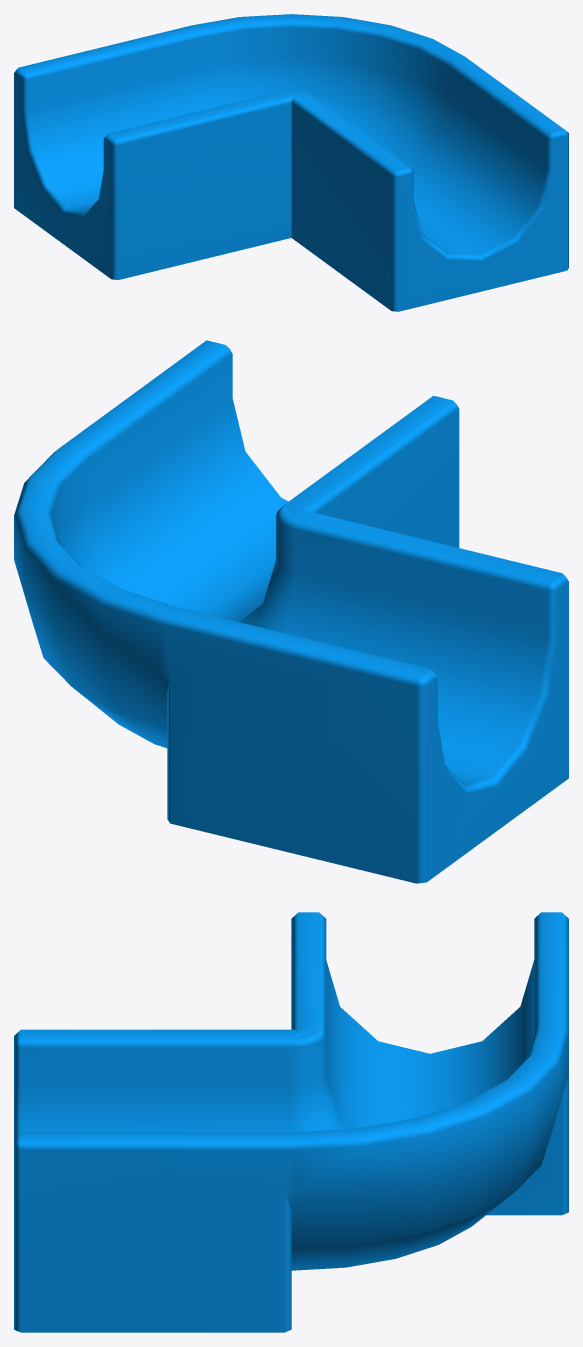
File: Track Curve 2x2.fbx
3 views of the same model, one above another, from view 1: azimuth 30°, elevation 25°; view 2: azimuth 150°, elevation 25°; view 3: azimuth 270°, elevation 25° (orthographic). The views are drawn at different scales.
Visible parts, largest first — view 1: Track Curve 2x2; view 2: Track Curve 2x2; view 3: Track Curve 2x2.
Part boxes in pixels (x1,y1,x2,y2): Track Curve 2x2: (14,14,568,311); Track Curve 2x2: (14,340,568,883); Track Curve 2x2: (14,912,568,1332).
Size of the model in its own units: 200 by 75 by 200.
